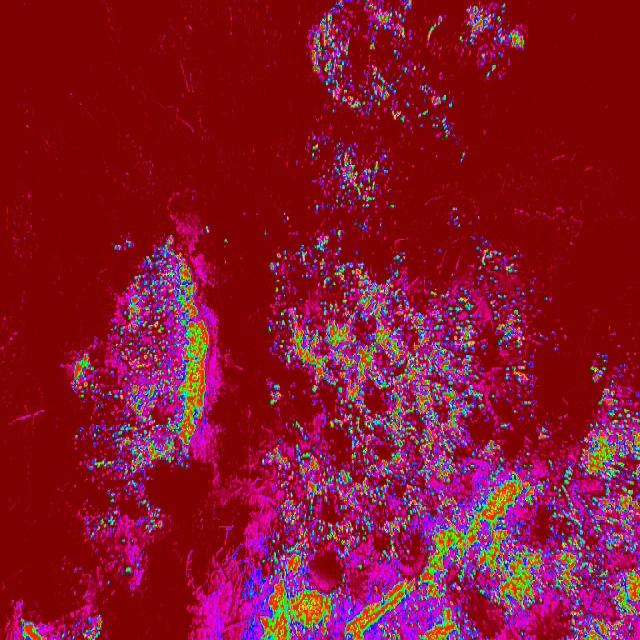fire: (270, 246, 542, 640), (112, 230, 217, 464), (67, 350, 162, 584), (585, 361, 640, 640), (308, 0, 429, 118), (306, 134, 402, 222), (542, 441, 584, 640), (460, 0, 526, 89), (238, 489, 271, 640), (15, 609, 103, 640)
